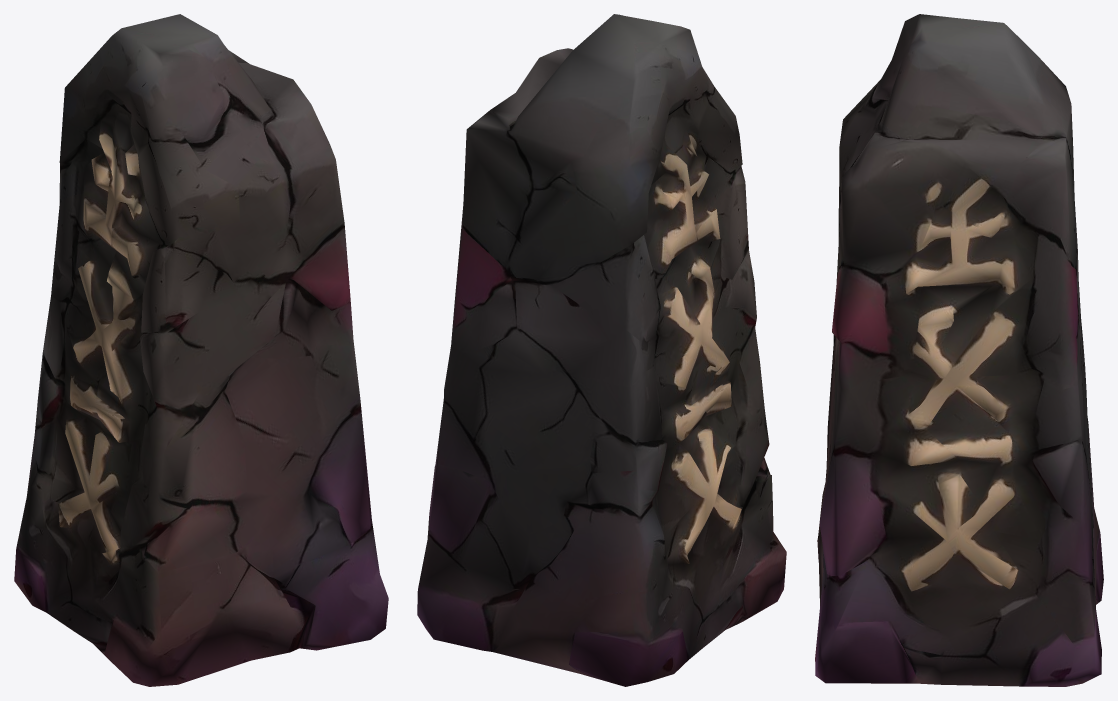
The model's file is obelisk.glb.
3 views of the same model, side by side, from view 1: azimuth 30°, elevation 25°; view 2: azimuth 150°, elevation 25°; view 3: azimuth 270°, elevation 25° (orthographic).
Visible parts, largest first — view 1: tripo_node_b92dd982-0d81-43b3-af5d-9ca090896c84; view 2: tripo_node_b92dd982-0d81-43b3-af5d-9ca090896c84; view 3: tripo_node_b92dd982-0d81-43b3-af5d-9ca090896c84.
Part boxes in pixels (bbox=[...]): tripo_node_b92dd982-0d81-43b3-af5d-9ca090896c84: bbox=[14, 14, 388, 686]; tripo_node_b92dd982-0d81-43b3-af5d-9ca090896c84: bbox=[417, 14, 786, 686]; tripo_node_b92dd982-0d81-43b3-af5d-9ca090896c84: bbox=[815, 14, 1103, 686].
Bounding box in the file's own units: 0.441 × 0.9995 × 0.4459.
1 material, 1 textured.
